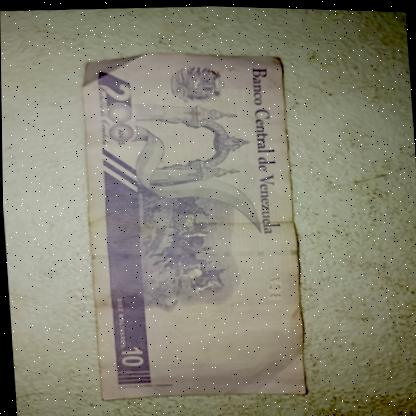vef_back: (75, 45, 308, 405)
